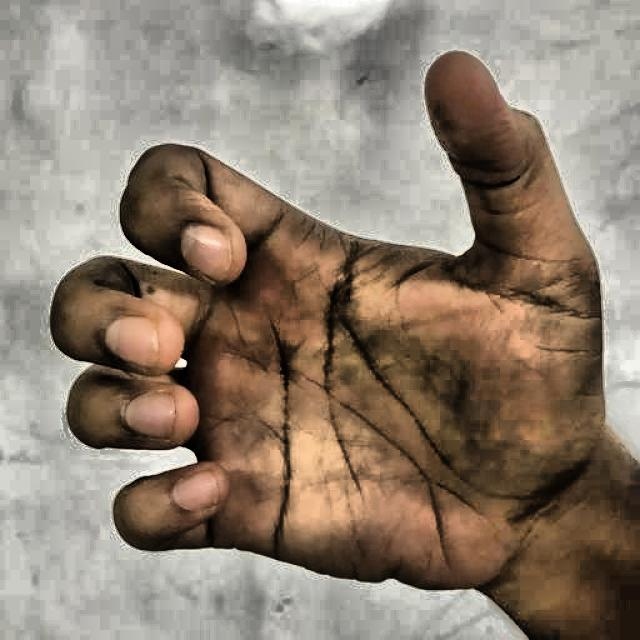Ja: (35, 25, 616, 638)
